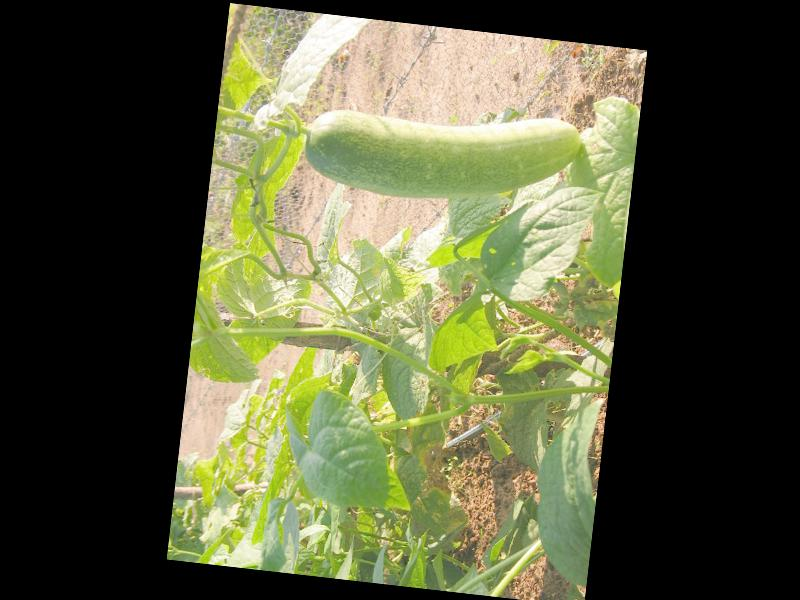Cucumber: (302, 91, 582, 216)
